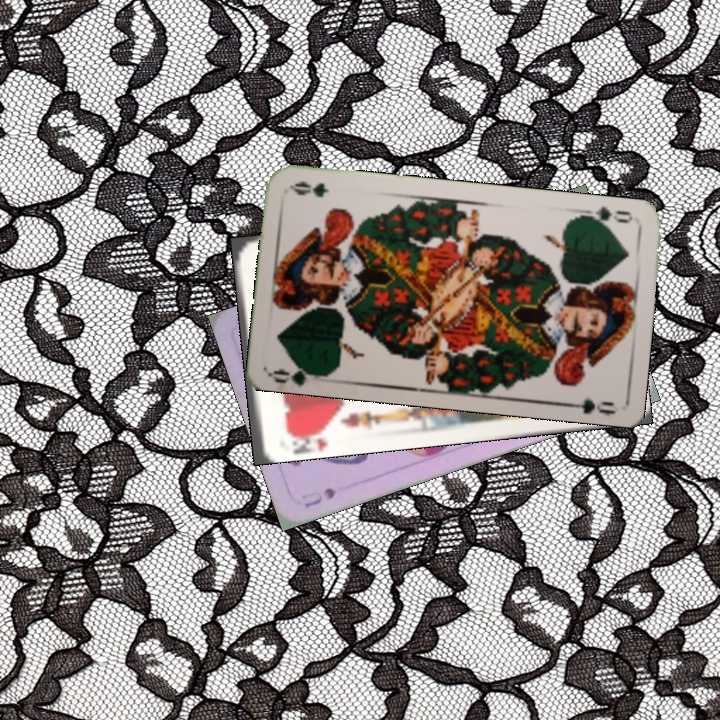GO: (270, 358, 330, 386), (578, 202, 636, 230)
HK: (282, 421, 333, 452)
SU: (300, 483, 339, 511)
